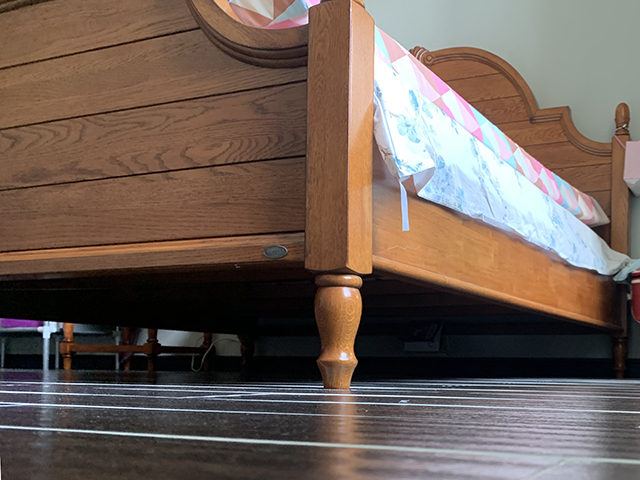bed: (1, 12, 628, 390)
